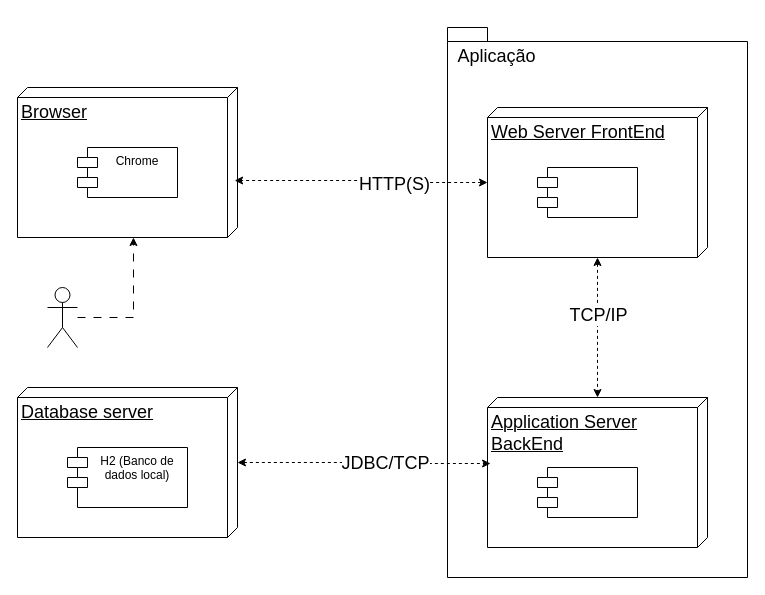
This 765x595 diagram has some shape labels left out. Here are the shapes that lost their labels. From the top down, the centre of each, then its label:
pixel 587 192: React Application
pixel 62 317: User
pixel 587 492: Micronault Application
